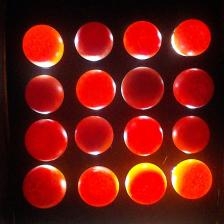fertile: (121, 66, 165, 110), (23, 164, 67, 208), (25, 119, 68, 162), (173, 68, 214, 109), (75, 115, 114, 155), (25, 75, 64, 114), (75, 22, 113, 62), (172, 116, 210, 154)
infertile: (22, 24, 65, 68), (125, 162, 167, 205), (75, 69, 116, 110), (78, 166, 119, 206), (172, 159, 212, 200), (124, 115, 163, 157), (123, 21, 162, 60), (173, 18, 211, 56)
